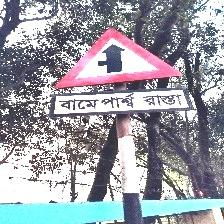Side-road-left: (50, 26, 193, 119)
